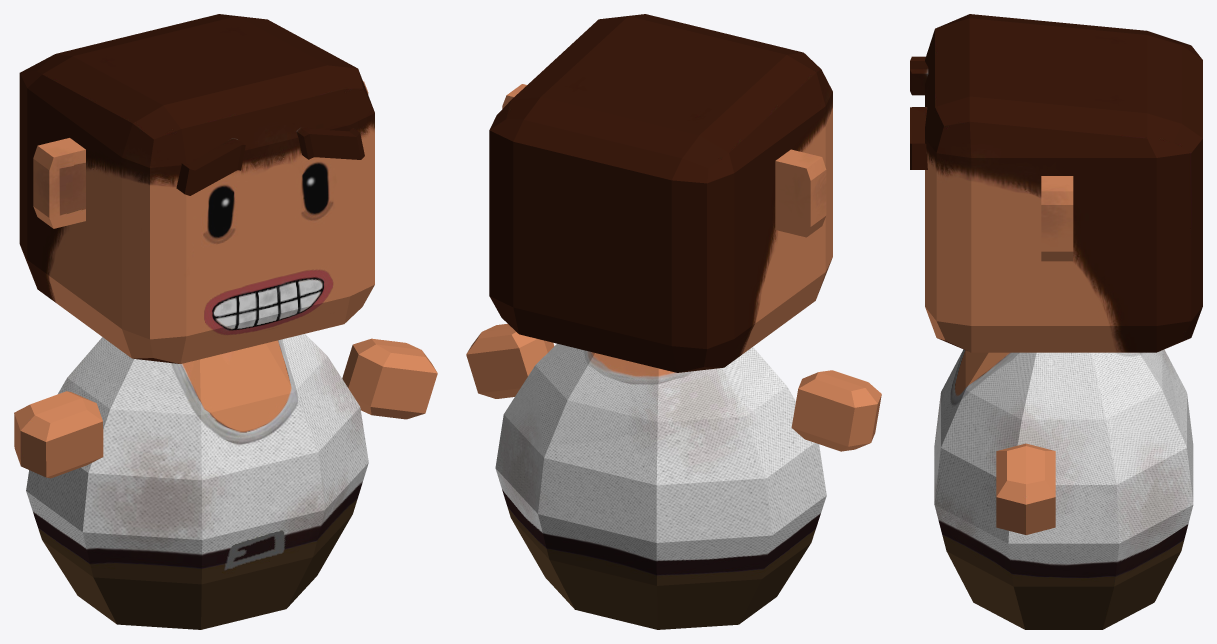
The model's file is kid.fbx.
3 views of the same model, side by side, from view 1: azimuth 30°, elevation 25°; view 2: azimuth 150°, elevation 25°; view 3: azimuth 270°, elevation 25° (orthographic). The views are drawn at different scales.
Visible parts, largest first — view 1: kid; view 2: kid; view 3: kid.
Boxes of the visible parts, x1=… form: kid: x1=14, y1=14, x2=437, y2=629; kid: x1=466, y1=14, x2=881, y2=629; kid: x1=910, y1=14, x2=1202, y2=629.
Size of the model in its own units: 162 by 200 by 101.
Materials: 1 (1 with a texture image).
